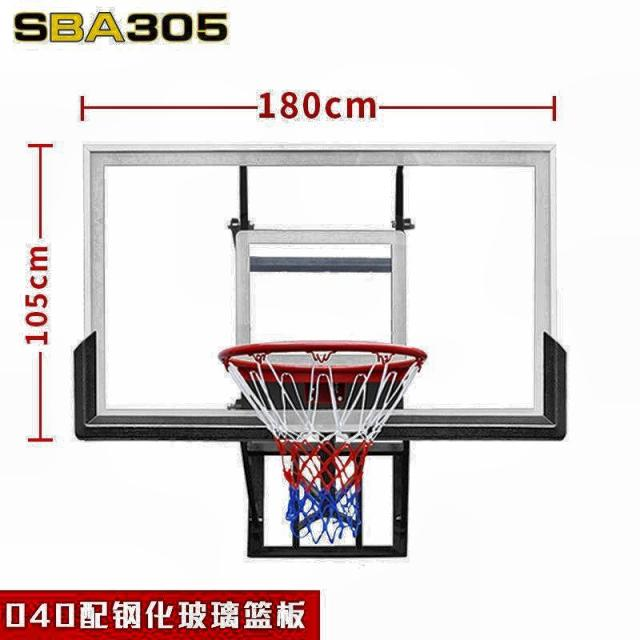rim: (218, 341, 423, 546)
